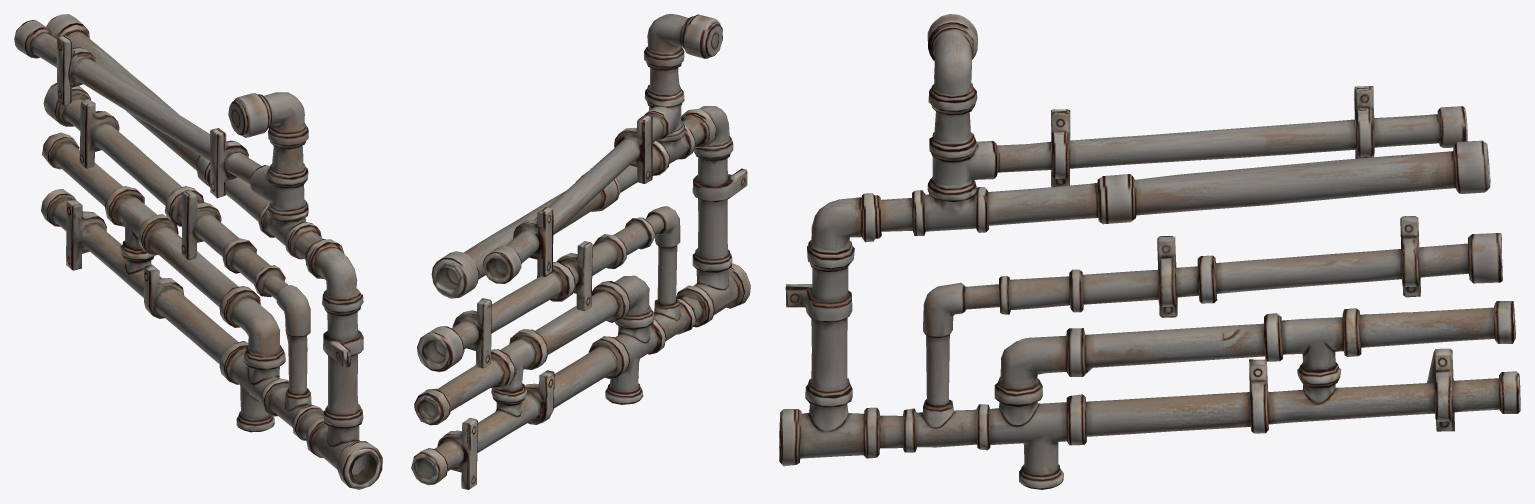
File: kit_wall_pipes.glb
The picture shows the model from 3 angles, left to right: view 1: azimuth 30°, elevation 25°; view 2: azimuth 150°, elevation 25°; view 3: azimuth 270°, elevation 25°; orthographic projection. The views are drawn at different scales.
Parts seen in each view (by area): view 1: tripo_node_eaa199de-8258-43ca-b742-16bcf3c0c708; view 2: tripo_node_eaa199de-8258-43ca-b742-16bcf3c0c708; view 3: tripo_node_eaa199de-8258-43ca-b742-16bcf3c0c708.
Part boxes in pixels (left/top/right/bottom): tripo_node_eaa199de-8258-43ca-b742-16bcf3c0c708: left=14, top=14, right=382, bottom=489; tripo_node_eaa199de-8258-43ca-b742-16bcf3c0c708: left=411, top=14, right=750, bottom=489; tripo_node_eaa199de-8258-43ca-b742-16bcf3c0c708: left=779, top=14, right=1520, bottom=489.
Size of the model in its own units: 0.158 by 0.6523 by 1.
1 material, 1 textured.
